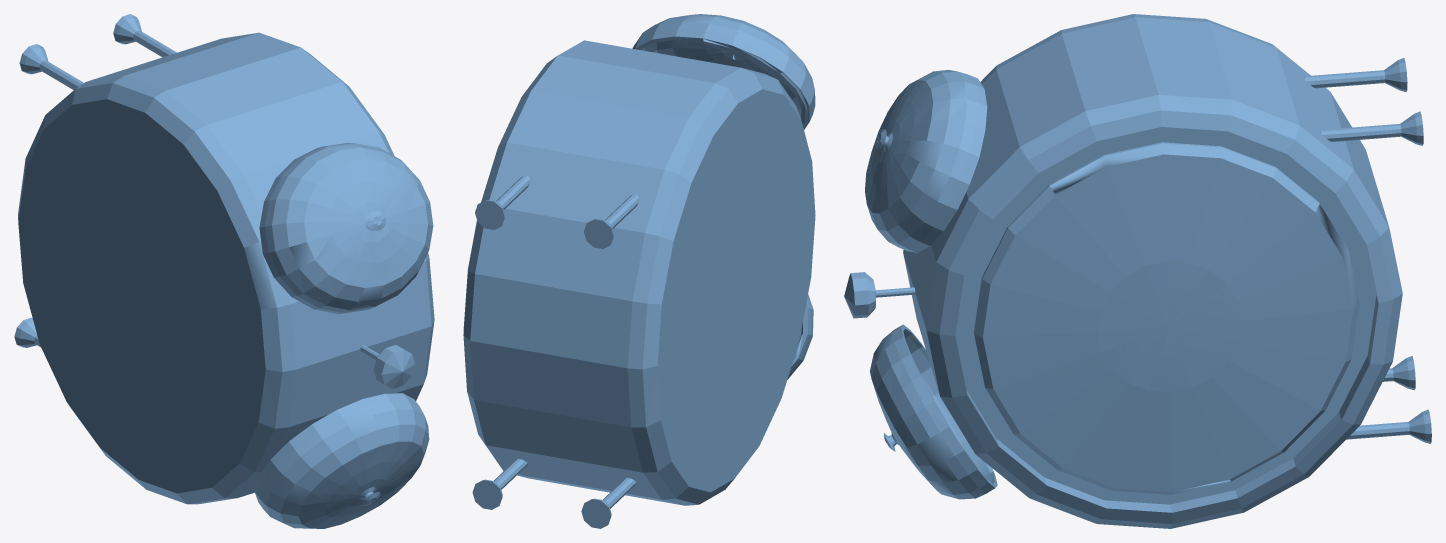
The model's file is alarmClock1_4.dae.
The picture shows the model from 3 angles, left to right: view 1: azimuth 30°, elevation 25°; view 2: azimuth 150°, elevation 25°; view 3: azimuth 270°, elevation 25°; orthographic projection. The views are drawn at different scales.
Visible parts, largest first — view 1: M006126_019; view 2: M006126_019; view 3: M006126_019.
Part boxes in pixels (box(x1,y1,x2,y2)): M006126_019: box(14, 14, 434, 528); M006126_019: box(463, 14, 815, 528); M006126_019: box(844, 14, 1431, 528).
Bounding box in the file's own units: 0.1 × 0.2041 × 0.1669.
